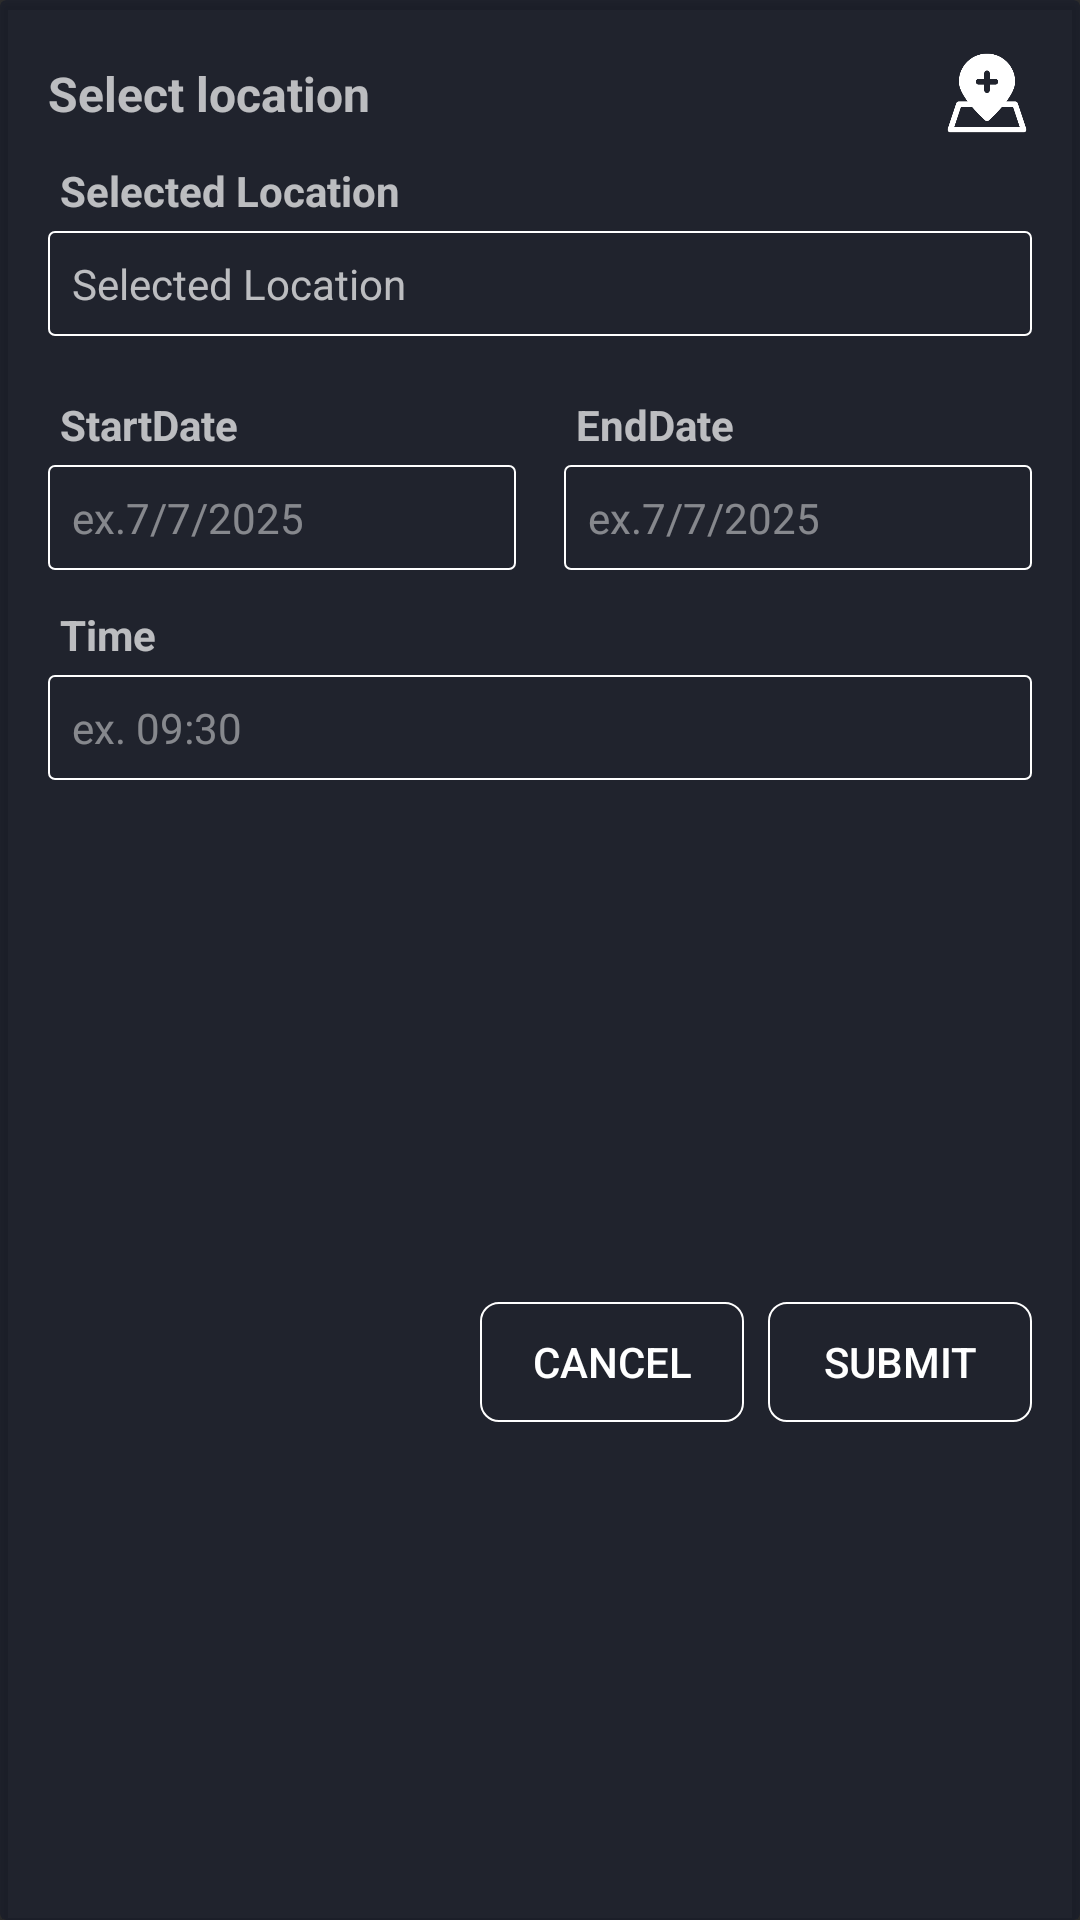

Where icons sit on this 1080px x 1920px app screen, as [x1, y1, x2, y2]:
add location: [947, 53, 1027, 133]
